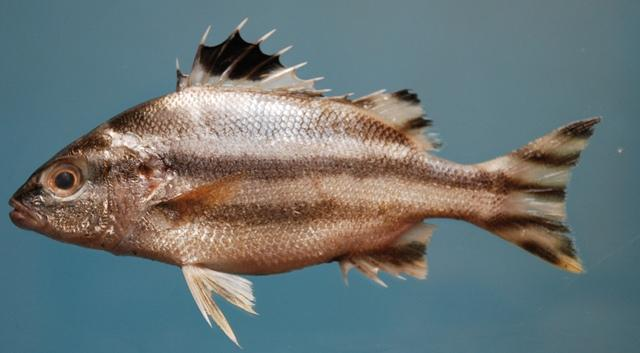Mulut: (4, 186, 44, 243)
Sirip Anal: (340, 215, 432, 295)
Sirip Dada: (160, 165, 244, 228)
Sirip Ekor: (502, 113, 608, 284)
Sirip Perut: (182, 255, 260, 353)
Sirip Punggung: (173, 15, 444, 156)
